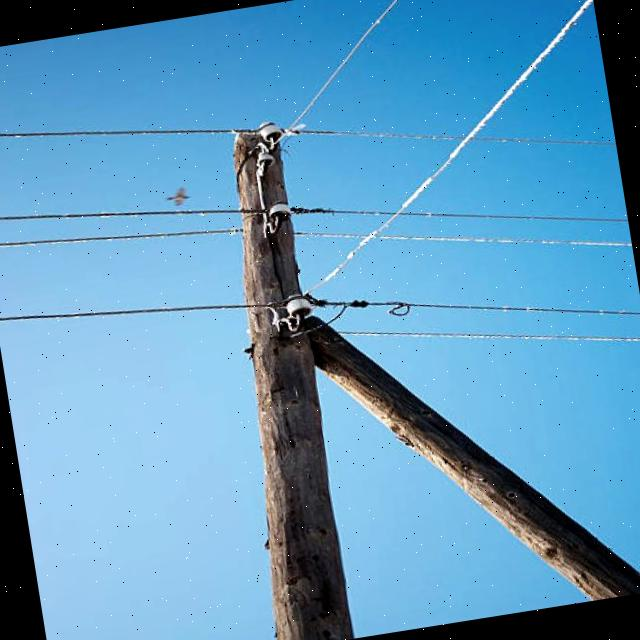Broken Pole: (307, 294, 640, 602)
